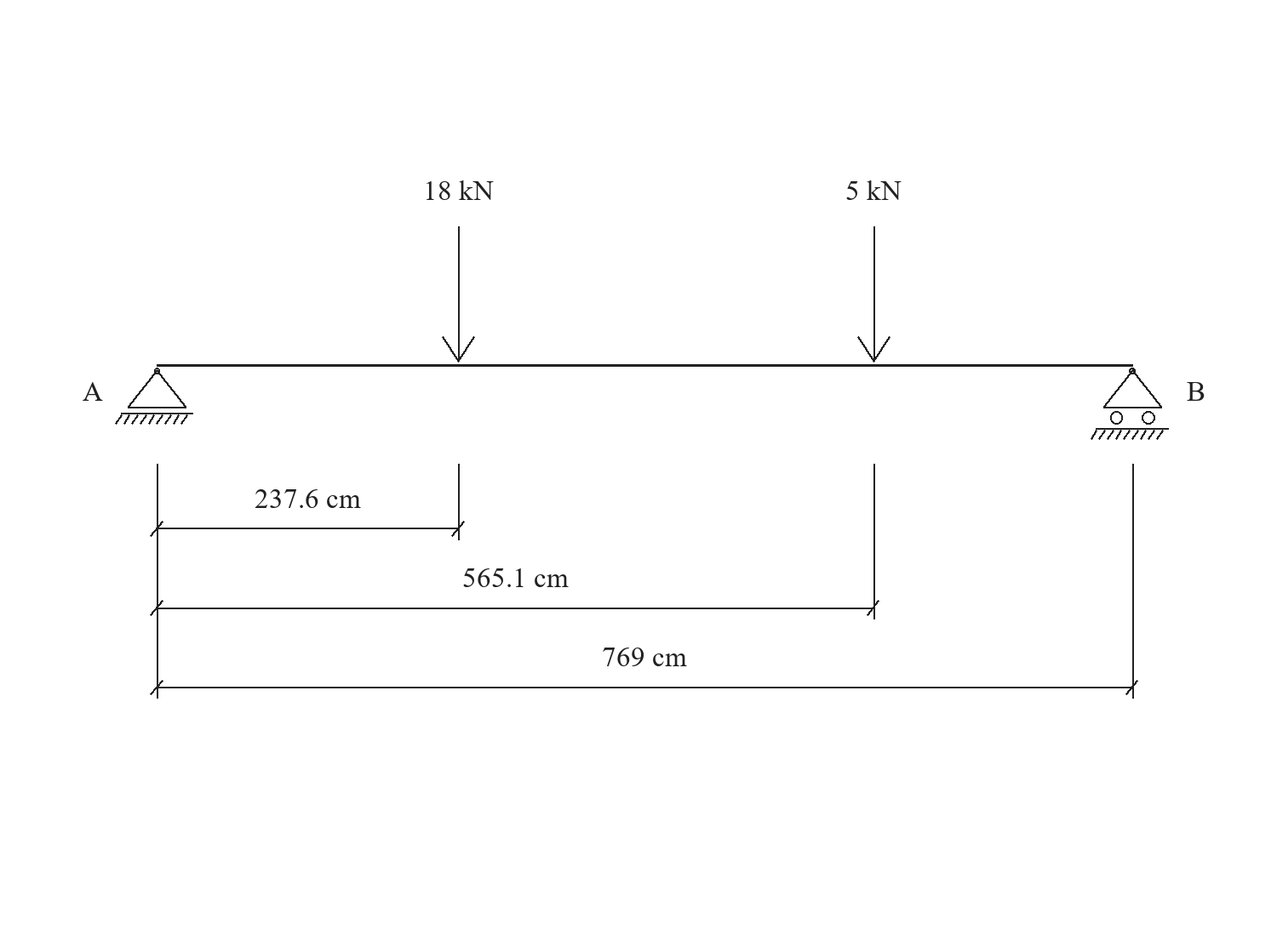pin_support: (115, 368, 193, 425)
point_load: (442, 226, 475, 362), (857, 226, 890, 362)
roller_support: (1091, 368, 1169, 440)
